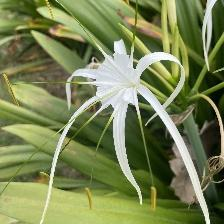spider lily: (41, 1, 213, 224)
